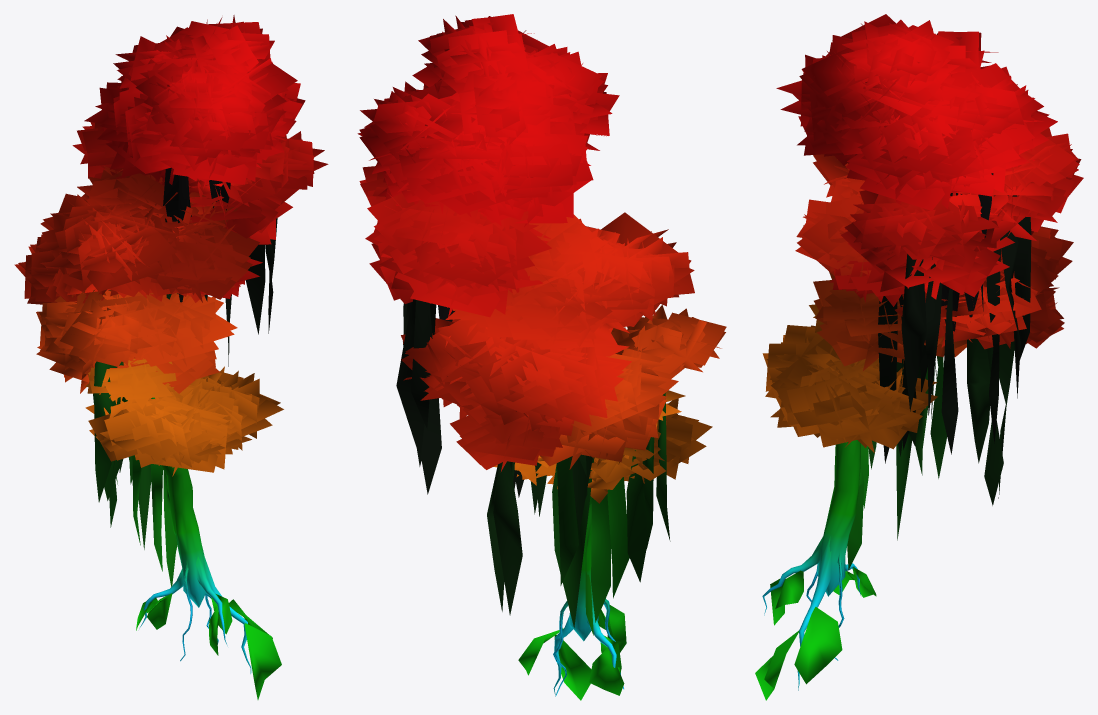
The model's file is Kapokier3.fbx.
3 views of the same model, side by side, from view 1: azimuth 30°, elevation 25°; view 2: azimuth 150°, elevation 25°; view 3: azimuth 270°, elevation 25° (orthographic). The views are drawn at different scales.
Visible parts, largest first — view 1: Kapokier3_LOD0; view 2: Kapokier3_LOD0; view 3: Kapokier3_LOD0.
Boxes of the visible parts, box(x1,y1,x2,y2) form: Kapokier3_LOD0: box(14, 15, 328, 699); Kapokier3_LOD0: box(357, 14, 726, 700); Kapokier3_LOD0: box(755, 14, 1083, 700).
Size of what is drawn, in the model's own units: 1640 by 3397 by 1474.
